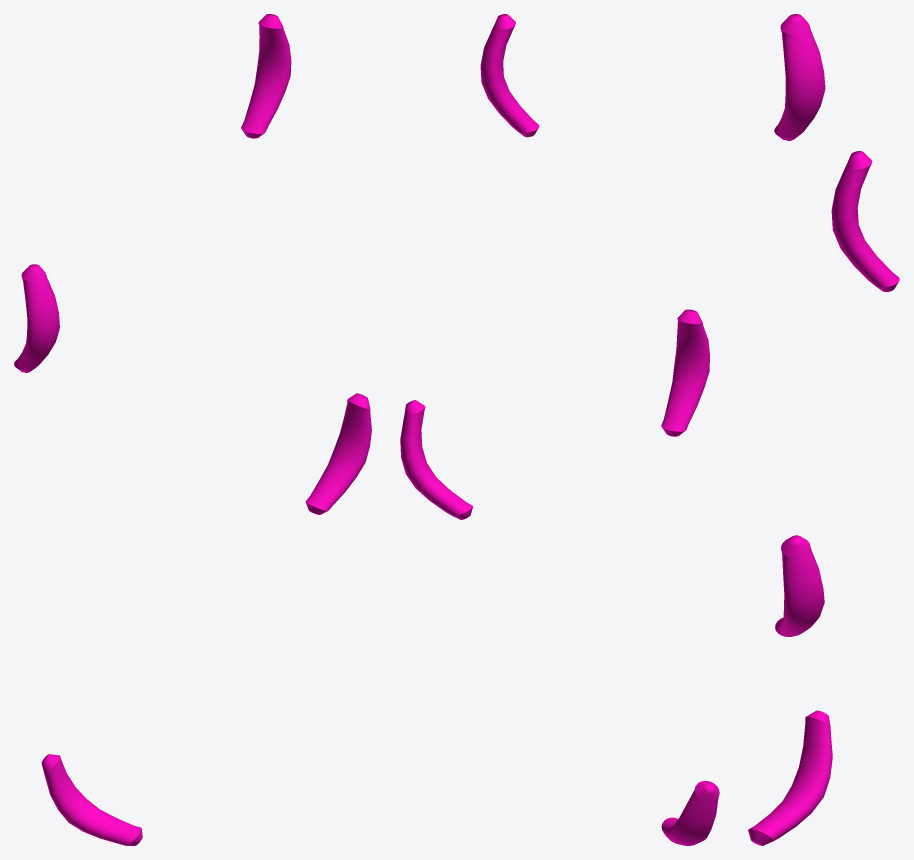
The model's file is particles.fbx.
The picture shows the model from 3 angles, left to right: view 1: azimuth 30°, elevation 25°; view 2: azimuth 150°, elevation 25°; view 3: azimuth 270°, elevation 25°; orthographic projection. The views are drawn at different scales.
Parts seen in each view (by area): view 1: pasted__pCylinder6 (×2), pCylinder6, pasted__pasted__pCylinder6; view 2: pasted__pCylinder6 (×2), pCylinder6, pasted__pasted__pCylinder6; view 3: pasted__pCylinder6 (×2), pasted__pasted__pCylinder6, pCylinder6.
Part boxes in pixels (left/top/right/bottom): pasted__pCylinder6 (×2): left=14, top=264, right=371, bottom=514; pCylinder6: left=241, top=14, right=291, bottom=138; pasted__pasted__pCylinder6: left=41, top=754, right=142, bottom=845; pasted__pCylinder6 (×2): left=400, top=309, right=709, bottom=519; pCylinder6: left=480, top=14, right=539, bottom=137; pasted__pasted__pCylinder6: left=661, top=781, right=719, bottom=845; pasted__pCylinder6 (×2): left=775, top=151, right=899, bottom=636; pasted__pasted__pCylinder6: left=748, top=710, right=832, bottom=845; pCylinder6: left=774, top=14, right=825, bottom=140.
Bounding box in the file's own units: 1.03 × 2.38 × 0.3579.
